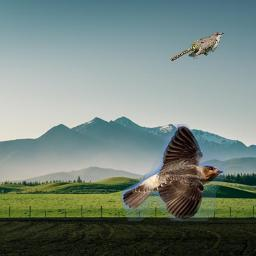Cuckoo: (169, 32, 224, 61)
Swallow: (121, 124, 227, 221)
